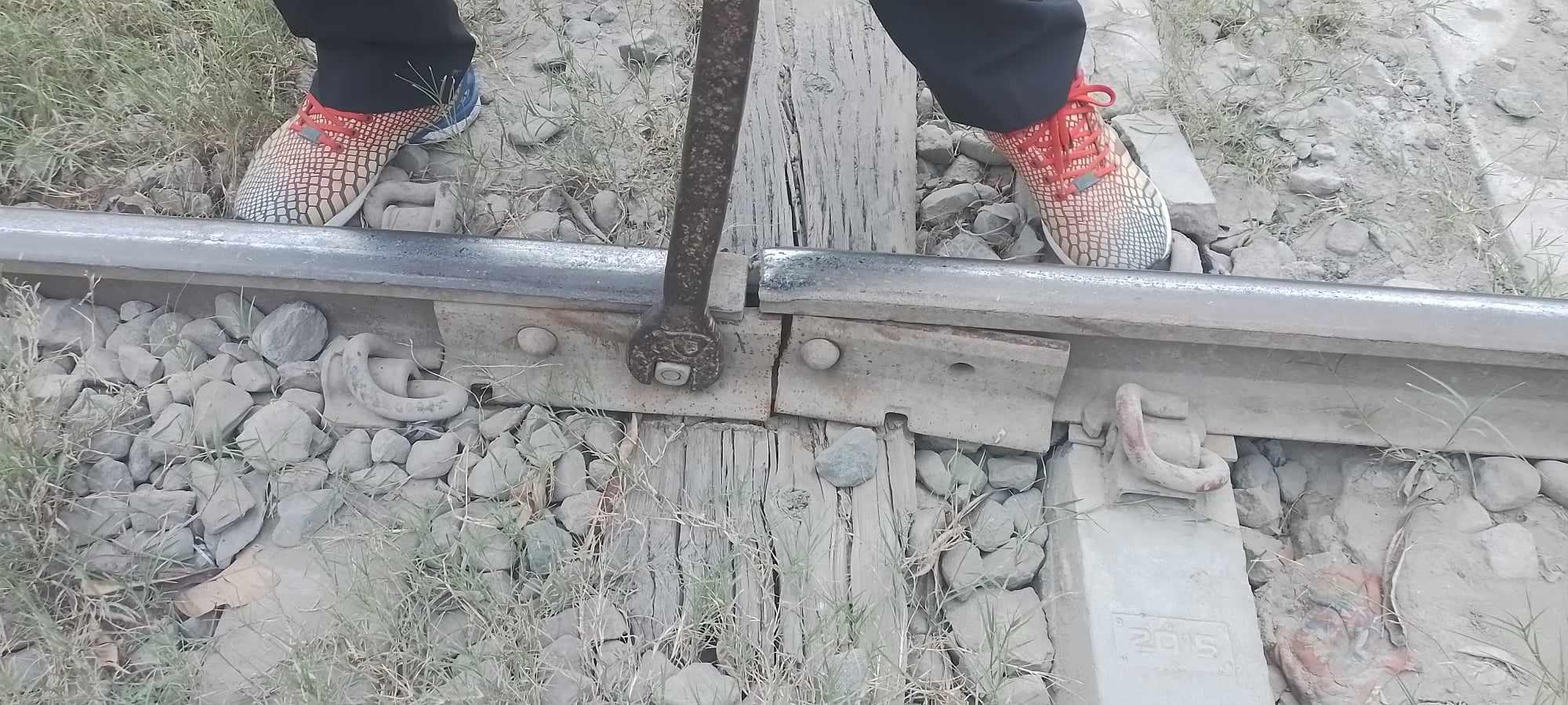railway-gap: (726, 302, 825, 427), (717, 247, 797, 319)
